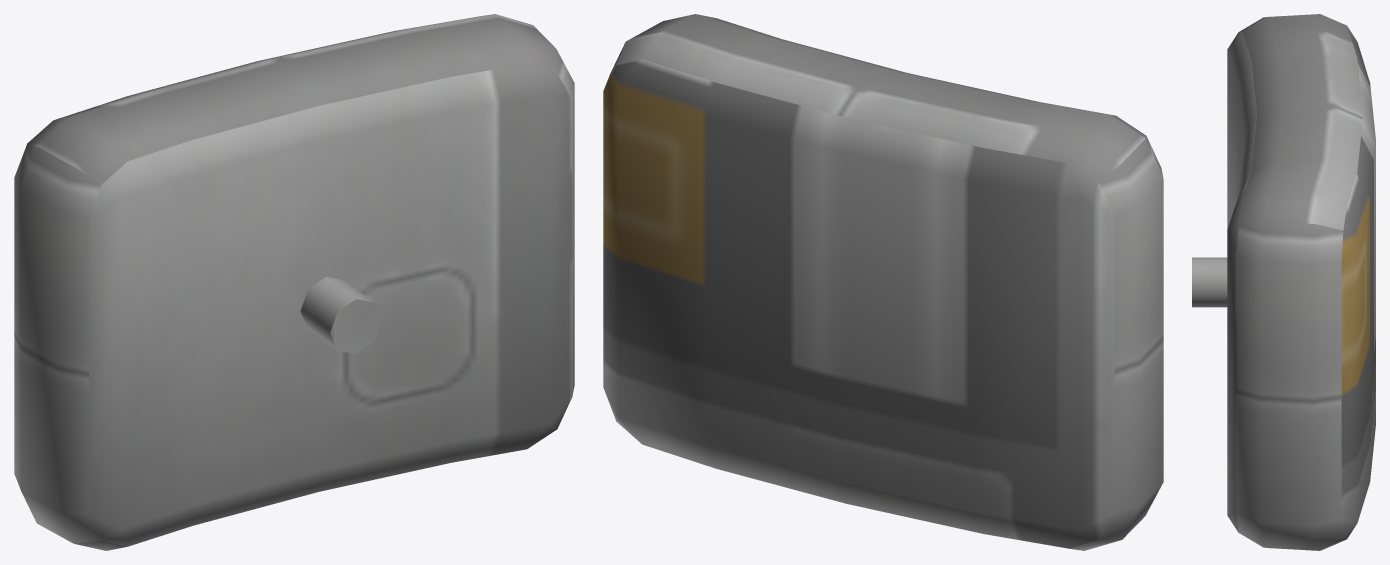
File: Hamal_Battery_2.obj
The picture shows the model from 3 angles, left to right: view 1: azimuth 30°, elevation 25°; view 2: azimuth 150°, elevation 25°; view 3: azimuth 270°, elevation 25°; orthographic projection. The views are drawn at different scales.
Visible parts, largest first — view 1: Hamal_Battery_2; view 2: Hamal_Battery_2; view 3: Hamal_Battery_2.
Boxes of the visible parts, box(x1,y1,x2,y2) form: Hamal_Battery_2: box(14, 14, 574, 550); Hamal_Battery_2: box(603, 14, 1163, 550); Hamal_Battery_2: box(1192, 14, 1375, 550).
Bounding box in the file's own units: 0.5041 × 0.375 × 0.175.
